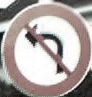Don't turn left: (3, 2, 91, 93)
